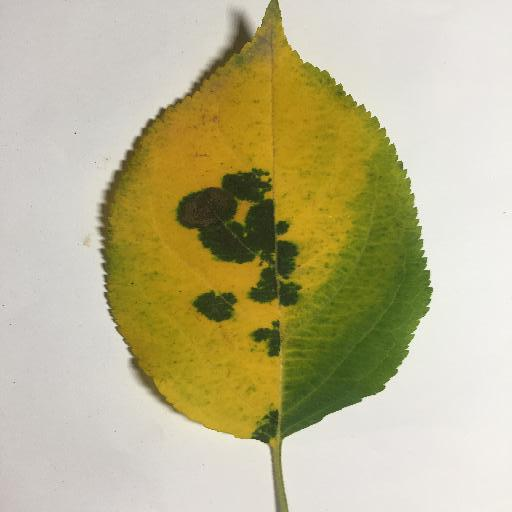Brown_Spot: (172, 185, 233, 227)
